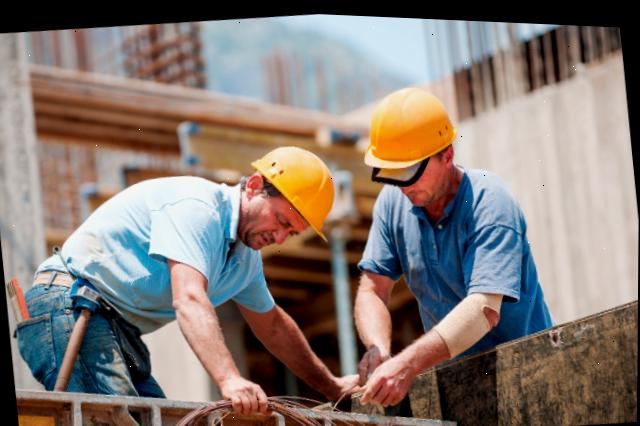helmet: (242, 129, 345, 251), (353, 73, 465, 168)
